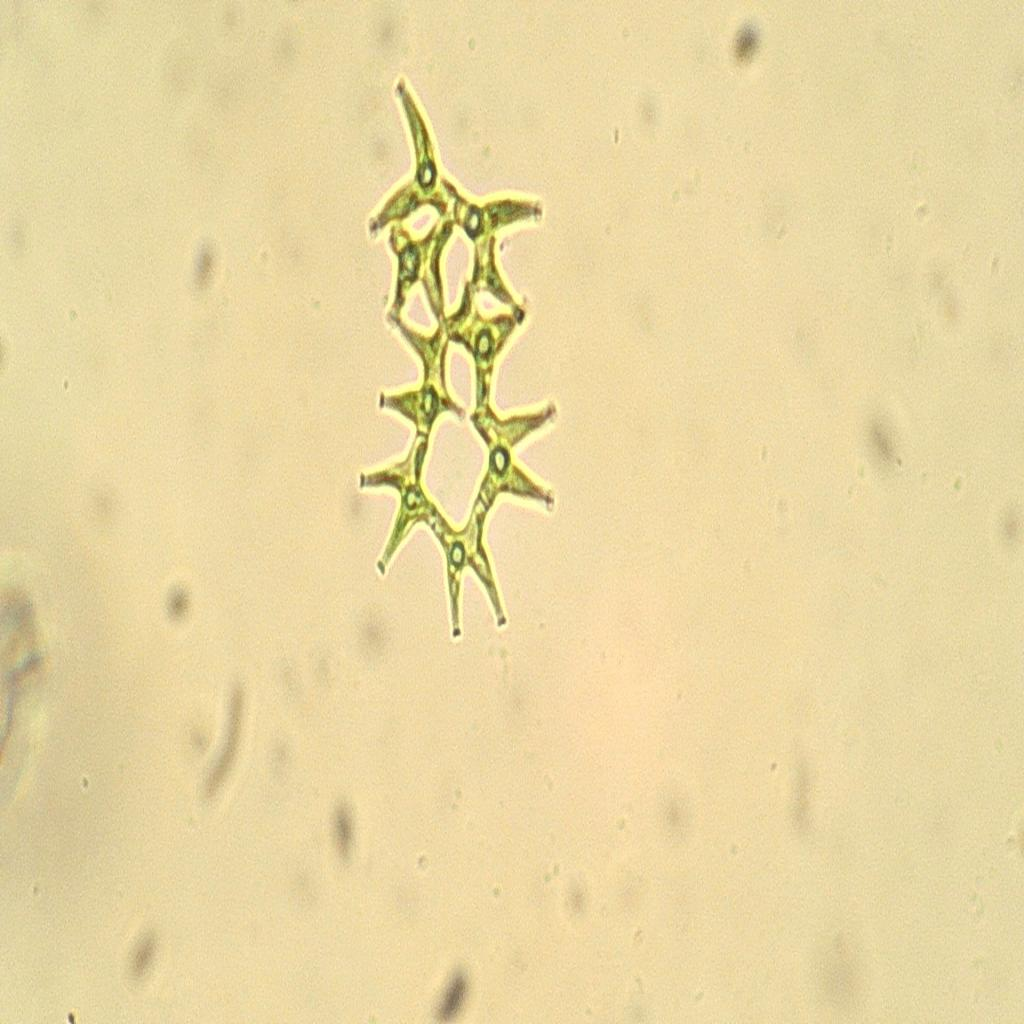Pediastrum_CFI: (342, 75, 576, 672)
